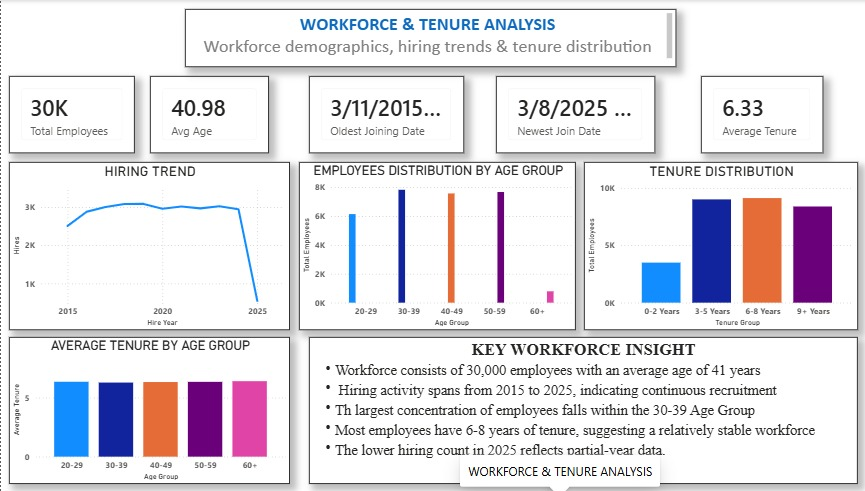

The dashboard page shown, as its layout file describes it:
{"tool":"powerbi","page":{"name":"WORKFORCE & TENURE ANALYSIS","canvas":[1280,720],"ordinal":2},"visuals":[{"type":"cardVisual","fields":{"Data":["hr_analytics employee_records.Total Employees"]},"box":[11.7,111.2,184.4,112.7],"z":0},{"type":"cardVisual","fields":{"Data":["hr_analytics employee_records.Avg Age"]},"box":[218,111.2,174.1,112.7],"z":1000},{"type":"cardVisual","fields":{"Data":["hr_analytics employee_records.Oldest Joining Date"]},"box":[450.7,111.2,226.8,112.7],"z":2000},{"type":"cardVisual","fields":{"Data":["hr_analytics employee_records.Average Tenure"]},"box":[1024.4,111.2,178.5,112.7],"z":3000},{"type":"cardVisual","fields":{"Data":["hr_analytics employee_records.Newest Join Date"]},"box":[724.4,111.2,232.7,112.7],"z":4000},{"type":"lineChart","title":"HIRING TREND","fields":{"Y":["hr_analytics employee_records.Hires"],"Category":["hr_analytics employee_records.Hire Year"]},"box":[11.7,237.1,411.2,245.9],"z":5000},{"type":"clusteredColumnChart","title":"EMPLOYEES DISTRIBUTION BY AGE GROUP","fields":{"Category":["hr_analytics employee_records.Age Group"],"Y":["hr_analytics employee_records.Total Employees"],"Series":["hr_analytics employee_records.Age Group"]},"box":[436.1,237.1,405.4,245.9],"z":6000},{"type":"columnChart","title":"TENURE DISTRIBUTION","fields":{"Category":["hr_analytics employee_records.Tenure Group"],"Y":["hr_analytics employee_records.Total Employees"],"Series":["hr_analytics employee_records.Tenure Group"]},"box":[853.2,237.1,401,245.9],"z":7000},{"type":"columnChart","title":"AVERAGE TENURE BY AGE GROUP","fields":{"Y":["hr_analytics employee_records.Average Tenure"],"Category":["hr_analytics employee_records.Age Group"],"Series":["hr_analytics employee_records.Age Group"]},"box":[11.7,493.2,411.2,215.1],"z":8000},{"type":"textbox","box":[450.7,493.2,803.4,215.1],"z":9000},{"type":"textbox","box":[269.3,13.2,718.5,84.9],"z":9001}]}

Visuals, with their boxes in screenshot pixels (x1, y1, x2, y2), scaled from the page's 1280x720 canvas onto the 865x491 screenshot:
cardVisual - hr_analytics employee_records.Total Employees: {"x1": 8, "y1": 76, "x2": 133, "y2": 153}
cardVisual - hr_analytics employee_records.Avg Age: {"x1": 147, "y1": 76, "x2": 265, "y2": 153}
cardVisual - hr_analytics employee_records.Oldest Joining Date: {"x1": 305, "y1": 76, "x2": 458, "y2": 153}
cardVisual - hr_analytics employee_records.Average Tenure: {"x1": 692, "y1": 76, "x2": 813, "y2": 153}
cardVisual - hr_analytics employee_records.Newest Join Date: {"x1": 490, "y1": 76, "x2": 647, "y2": 153}
"HIRING TREND" lineChart: {"x1": 8, "y1": 162, "x2": 286, "y2": 329}
"EMPLOYEES DISTRIBUTION BY AGE GROUP" clusteredColumnChart: {"x1": 295, "y1": 162, "x2": 569, "y2": 329}
"TENURE DISTRIBUTION" columnChart: {"x1": 577, "y1": 162, "x2": 848, "y2": 329}
"AVERAGE TENURE BY AGE GROUP" columnChart: {"x1": 8, "y1": 336, "x2": 286, "y2": 483}
textbox: {"x1": 305, "y1": 336, "x2": 847, "y2": 483}
textbox: {"x1": 182, "y1": 9, "x2": 668, "y2": 67}
